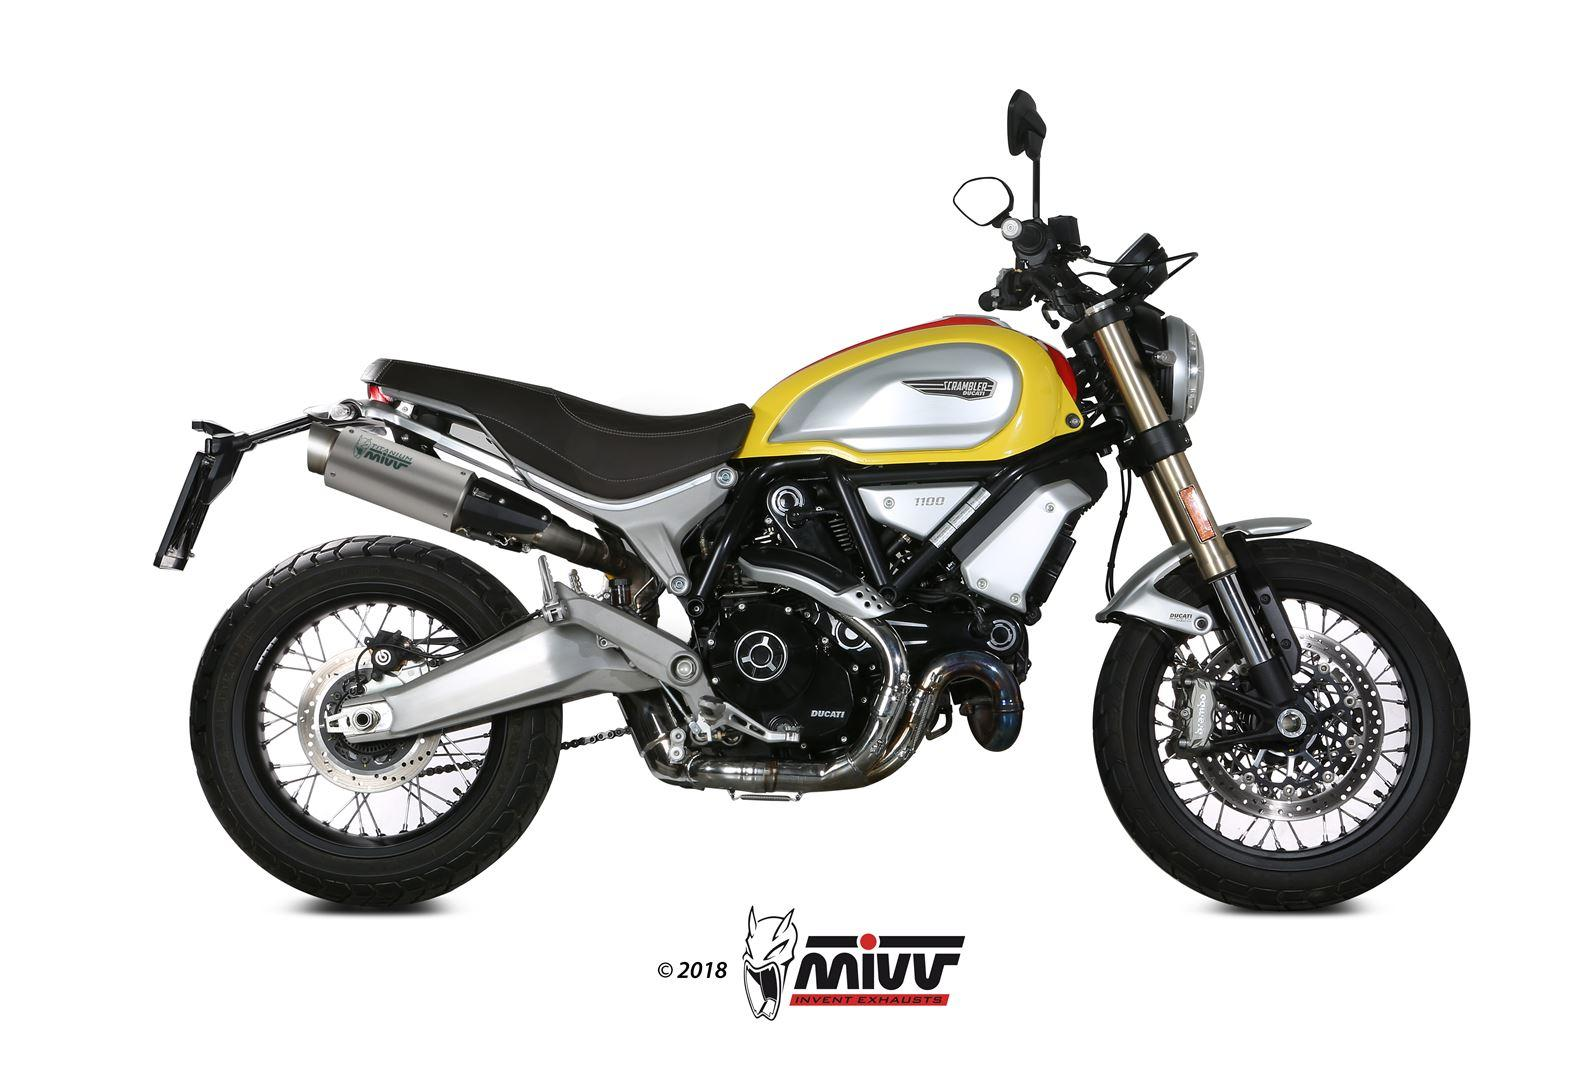engine-chasis: (681, 456, 1005, 747), (880, 550, 1032, 685), (588, 573, 620, 599)
exhaust: (614, 544, 1023, 802), (307, 421, 659, 629)
frontside: (878, 295, 1313, 752), (951, 454, 1108, 627)
handlebar: (952, 88, 1169, 330)
motorbike: (156, 90, 1472, 910)
rearside: (153, 385, 745, 744)
seat: (359, 357, 753, 499)
tank: (732, 315, 1085, 464)
watermark: (630, 890, 991, 1040)
wheel: (1092, 538, 1471, 911), (188, 535, 563, 910), (1104, 468, 1132, 604), (1080, 252, 1199, 280), (561, 726, 632, 751)
